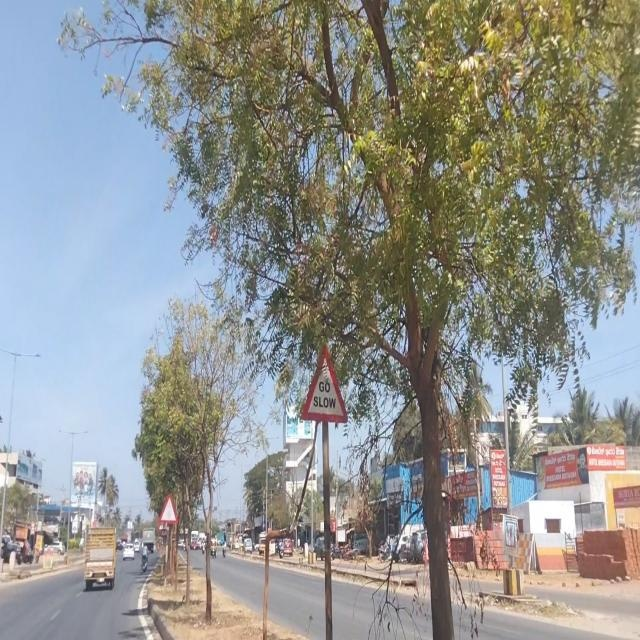bien_nguy_hiem: (302, 344, 348, 425), (159, 491, 178, 526)
